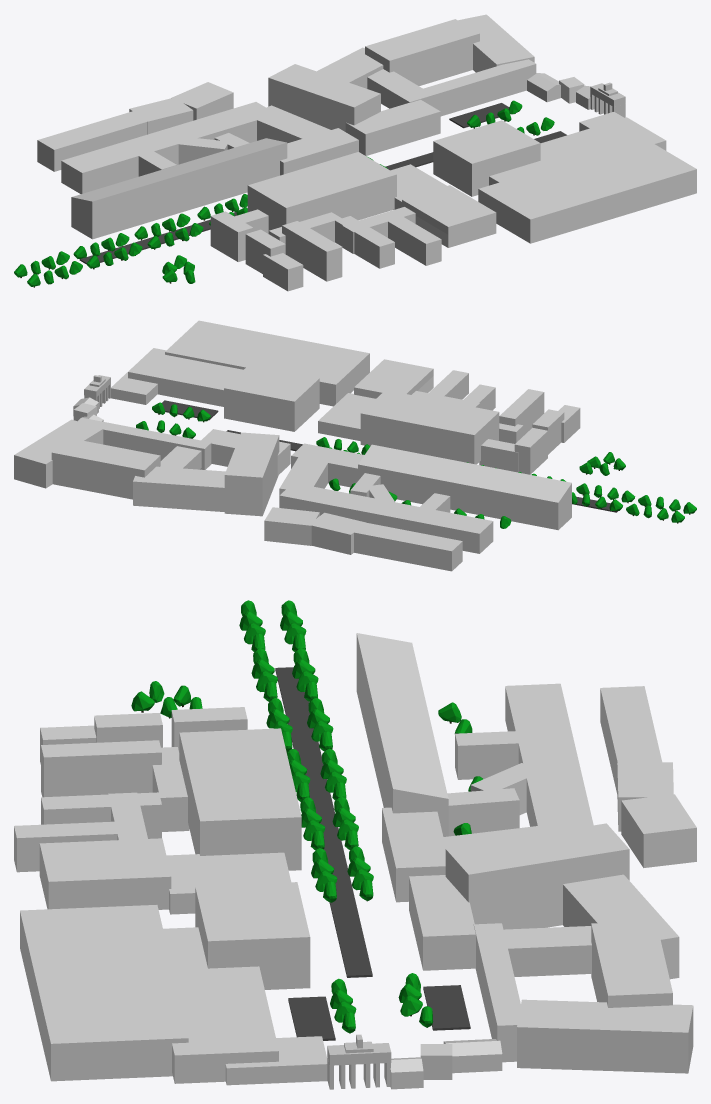
The model's file is BrandenburgerTor.fbx.
3 views of the same model, one above another, from view 1: azimuth 30°, elevation 25°; view 2: azimuth 150°, elevation 25°; view 3: azimuth 270°, elevation 25° (orthographic). The views are drawn at different scales.
Visible parts, largest first — view 1: Cube.029, Cube.008, Cube; view 2: Cube.029, Cube.008, Cube; view 3: Cube.029, Cube.008, Cube.
Part boxes in pixels (x1,y1,x2,y2): Cube.029: [37, 14, 696, 291]; Cube.008: [79, 103, 566, 264]; Cube: [590, 82, 625, 117]; Cube.029: [14, 320, 580, 571]; Cube.008: [162, 400, 617, 512]; Cube: [84, 375, 110, 408]; Cube.029: [14, 633, 696, 1089]; Cube.008: [275, 667, 470, 1040]; Cube: [327, 1034, 391, 1089].
Bounding box in the file's own units: 82.7 × 5.7 × 50.58.
